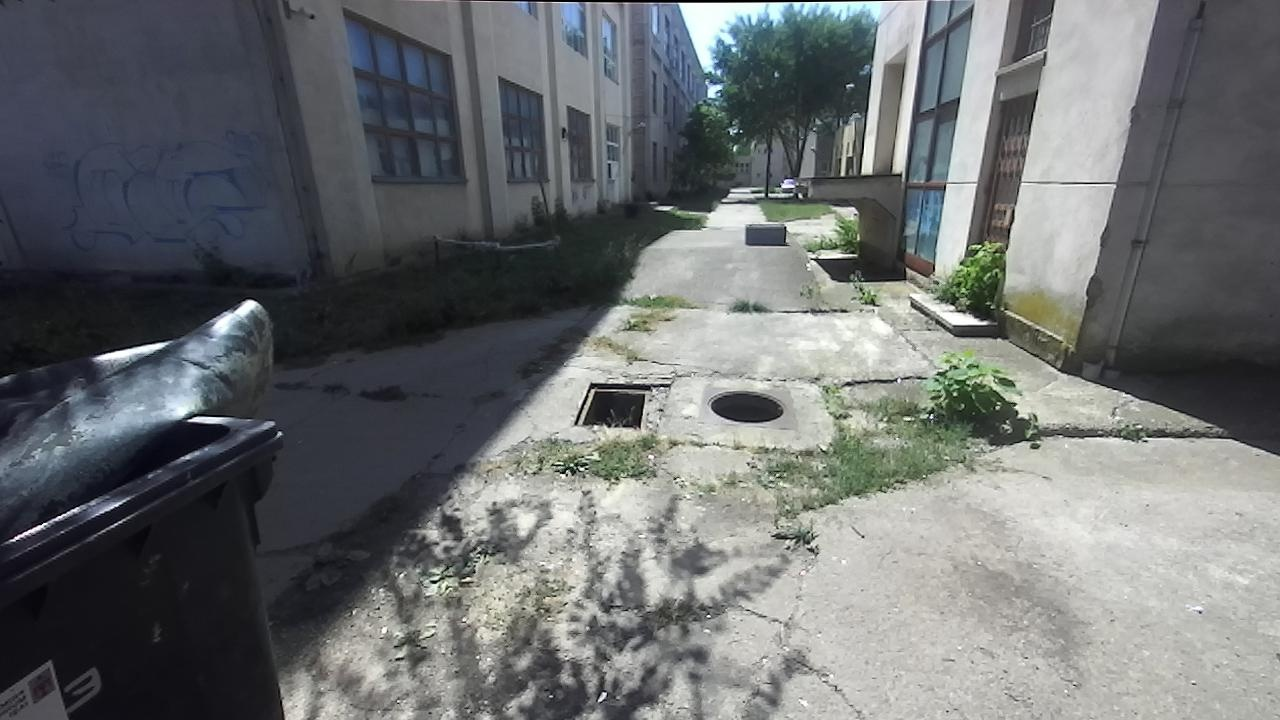drain: (568, 378, 654, 431), (701, 383, 790, 426)
